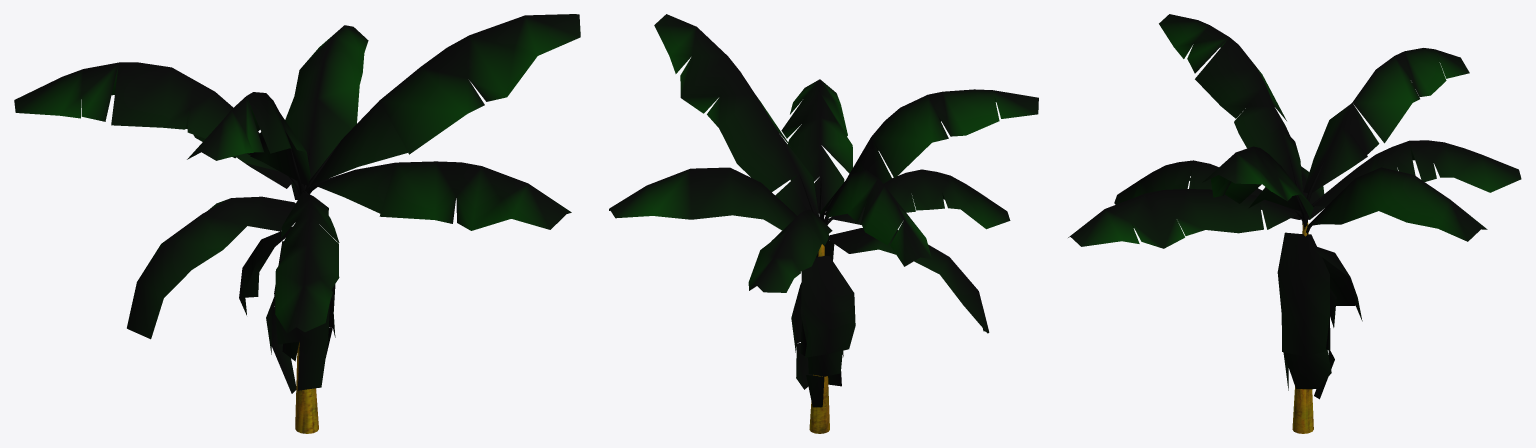
Rendered from Banana_Tree02_afsTREE_xlprl.fbx.
3 renders of one model, left to right at view 1: azimuth 30°, elevation 25°; view 2: azimuth 150°, elevation 25°; view 3: azimuth 270°, elevation 25°, orthographic. The views are drawn at different scales.
Visible parts, largest first — view 1: branch07_xw10_xt06_xlp22_xp12, branch11_xw07_xt08_xlp25_xp06, branch13_xw09_xt07_xlp20_xp06, branch08_xw05_xt06_xlp15, branch12_xw10_xt08_xlp18_xp20, branch10_xw03_xt06_xp15, branch09_xw08_xt08_xlp25_xp18, branch05_xw01_xt01_xp04_xlp00, branch02_xw06_xt06, trunk_xw05_xt05, branch03_xw01_xt02_xp08_xlp01, branch14_xw08_xt05_xlp17_xp10; view 2: branch07_xw10_xt06_xlp22_xp12, branch09_xw08_xt08_xlp25_xp18, branch12_xw10_xt08_xlp18_xp20, branch11_xw07_xt08_xlp25_xp06, branch13_xw09_xt07_xlp20_xp06, branch02_xw06_xt06, branch10_xw03_xt06_xp15, branch14_xw08_xt05_xlp17_xp10, branch08_xw05_xt06_xlp15, branch03_xw01_xt02_xp08_xlp01, branch04_xw01_xt01_xp10_xlp00, trunk_xw05_xt05; view 3: branch13_xw09_xt07_xlp20_xp06, branch09_xw08_xt08_xlp25_xp18, branch11_xw07_xt08_xlp25_xp06, branch04_xw01_xt01_xp10_xlp00, branch12_xw10_xt08_xlp18_xp20, branch14_xw08_xt05_xlp17_xp10, branch07_xw10_xt06_xlp22_xp12, branch10_xw03_xt06_xp15, branch02_xw06_xt06, trunk_xw05_xt05, branch03_xw01_xt02_xp08_xlp01, branch08_xw05_xt06_xlp15.
Boxes of the visible parts, box(x1,y1,x2,y2) form: branch07_xw10_xt06_xlp22_xp12: box(305, 14, 580, 190); branch11_xw07_xt08_xlp25_xp06: box(305, 161, 571, 230); branch13_xw09_xt07_xlp20_xp06: box(14, 62, 304, 190); branch08_xw05_xt06_xlp15: box(127, 196, 295, 339); branch12_xw10_xt08_xlp18_xp20: box(285, 25, 368, 199); branch10_xw03_xt06_xp15: box(275, 190, 339, 333); branch09_xw08_xt08_xlp25_xp18: box(187, 92, 310, 195); branch05_xw01_xt01_xp04_xlp00: box(274, 241, 329, 390); branch02_xw06_xt06: box(239, 226, 292, 315); trunk_xw05_xt05: box(295, 342, 318, 433); branch03_xw01_xt02_xp08_xlp01: box(266, 297, 296, 393); branch14_xw08_xt05_xlp17_xp10: box(185, 111, 300, 196); branch07_xw10_xt06_xlp22_xp12: box(654, 14, 818, 216); branch09_xw08_xt08_xlp25_xp18: box(823, 89, 1038, 223); branch12_xw10_xt08_xlp18_xp20: box(609, 167, 796, 230); branch11_xw07_xt08_xlp25_xp06: box(781, 79, 852, 217); branch13_xw09_xt07_xlp20_xp06: box(820, 169, 931, 266); branch02_xw06_xt06: box(801, 256, 855, 357); branch10_xw03_xt06_xp15: box(826, 169, 1010, 229); branch14_xw08_xt05_xlp17_xp10: box(748, 209, 832, 292); branch08_xw05_xt06_xlp15: box(824, 228, 989, 333); branch03_xw01_xt02_xp08_xlp01: box(800, 304, 842, 407); branch04_xw01_xt01_xp10_xlp00: box(791, 240, 834, 389); trunk_xw05_xt05: box(809, 244, 829, 433); branch13_xw09_xt07_xlp20_xp06: box(1303, 48, 1469, 222); branch09_xw08_xt08_xlp25_xp18: box(1159, 14, 1303, 193); branch11_xw07_xt08_xlp25_xp06: box(1068, 189, 1302, 248); branch04_xw01_xt01_xp10_xlp00: box(1277, 232, 1331, 389); branch12_xw10_xt08_xlp18_xp20: box(1306, 167, 1487, 241); branch14_xw08_xt05_xlp17_xp10: box(1307, 140, 1521, 221); branch07_xw10_xt06_xlp22_xp12: box(1202, 146, 1313, 229); branch10_xw03_xt06_xp15: box(1114, 160, 1302, 222); branch02_xw06_xt06: box(1314, 247, 1362, 321); trunk_xw05_xt05: box(1292, 222, 1313, 433); branch03_xw01_xt02_xp08_xlp01: box(1314, 288, 1336, 399); branch08_xw05_xt06_xlp15: box(1291, 166, 1325, 224).
Size of the model in its own units: 6.48 by 5.57 by 6.44.
